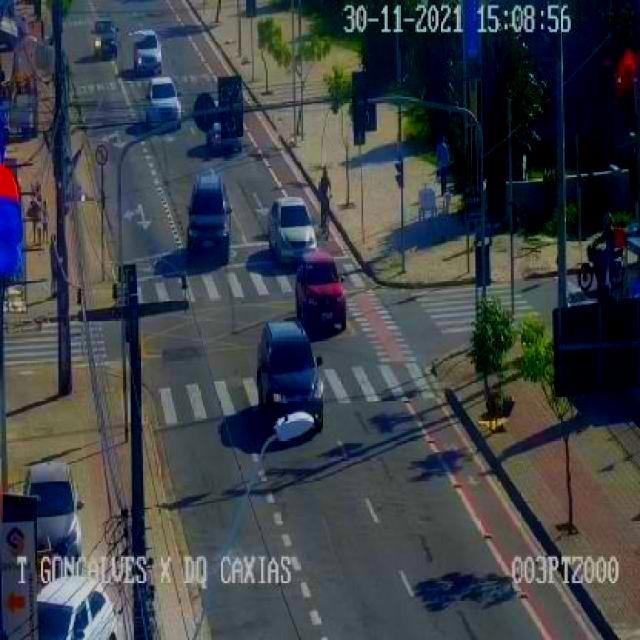Car: (256, 322, 322, 429), (22, 461, 82, 560), (36, 577, 120, 639), (296, 252, 346, 334), (186, 171, 232, 258), (268, 197, 317, 264), (144, 77, 182, 128), (130, 29, 162, 75), (91, 19, 120, 59)
Cycle: (577, 243, 627, 295)
